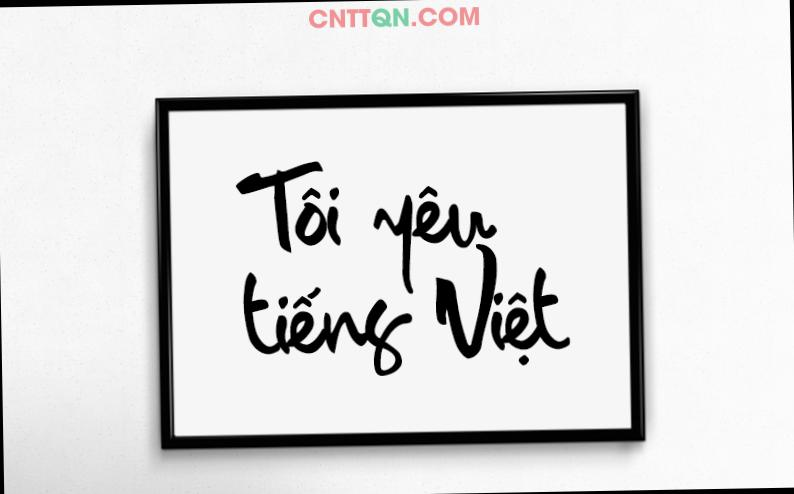text: (239, 240, 574, 380), (230, 155, 501, 298), (307, 3, 482, 30)
